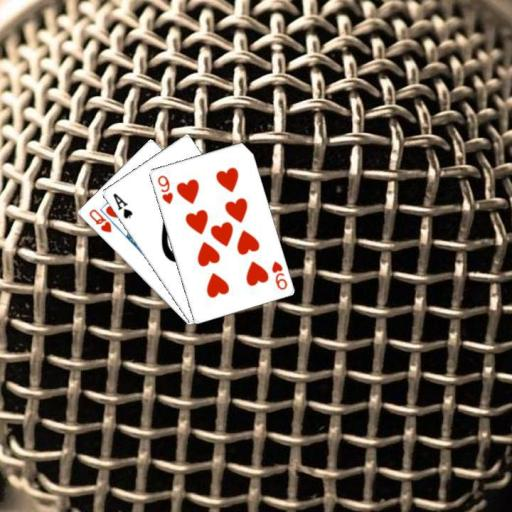9H: (155, 172, 175, 206), (268, 257, 288, 291)
AS: (110, 190, 134, 220)
QH: (86, 206, 113, 234)
